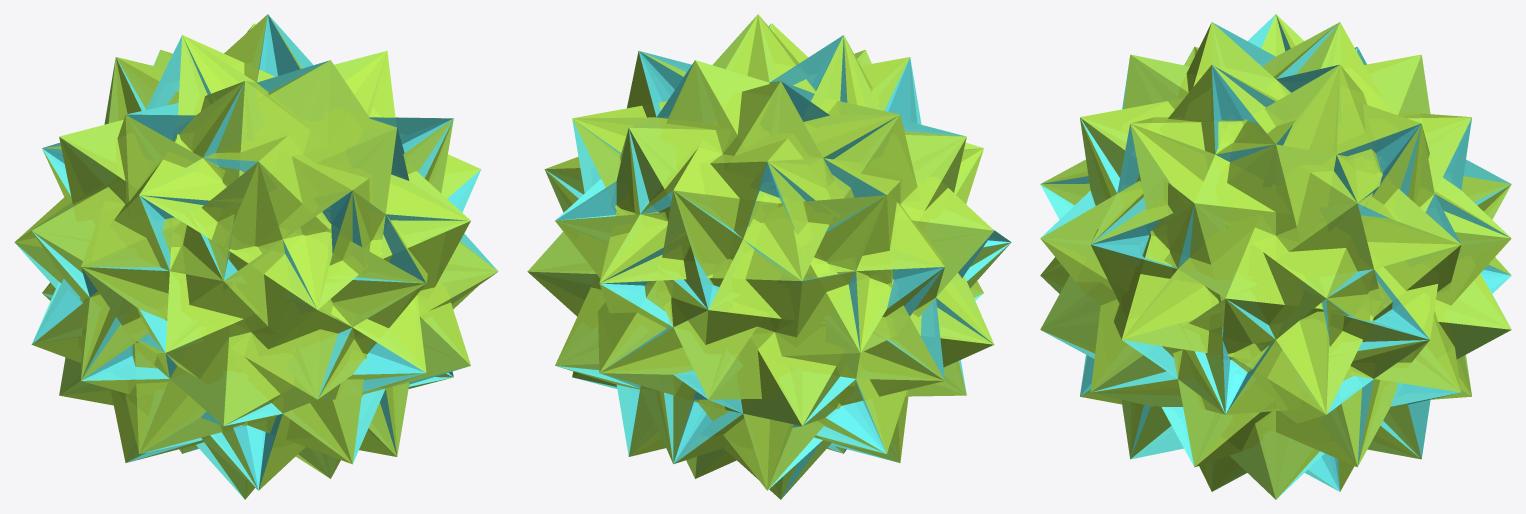
Rendered from 47_Dodekexcavated_Gsd.obj.
The picture shows the model from 3 angles, left to right: view 1: azimuth 30°, elevation 25°; view 2: azimuth 150°, elevation 25°; view 3: azimuth 270°, elevation 25°; orthographic projection. The views are drawn at different scales.
Bounding box in the file's own units: 1.34 × 1.34 × 1.34.
